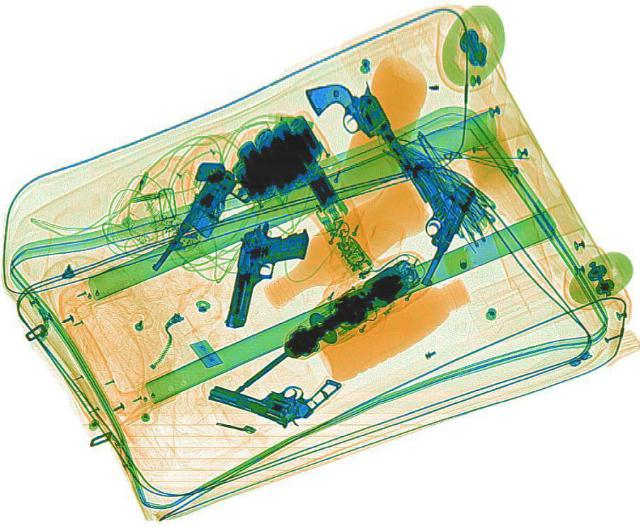Gun: (302, 71, 434, 216), (358, 159, 480, 285), (150, 164, 266, 286), (200, 346, 344, 435), (222, 218, 310, 332)
